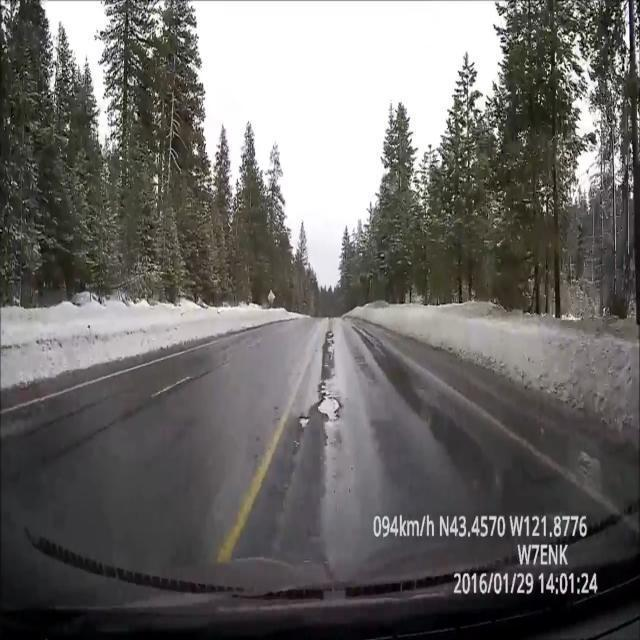pothole: (318, 375, 345, 443)
